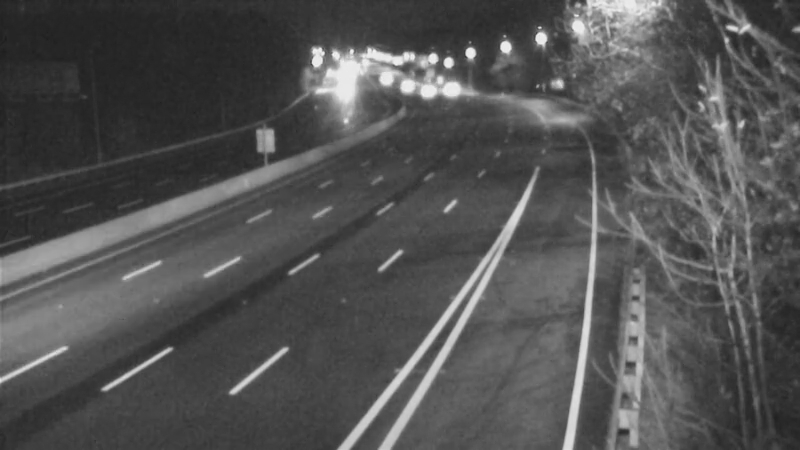vehicle: (357, 54, 407, 104), (379, 61, 429, 111), (400, 65, 450, 115), (429, 65, 479, 115)
